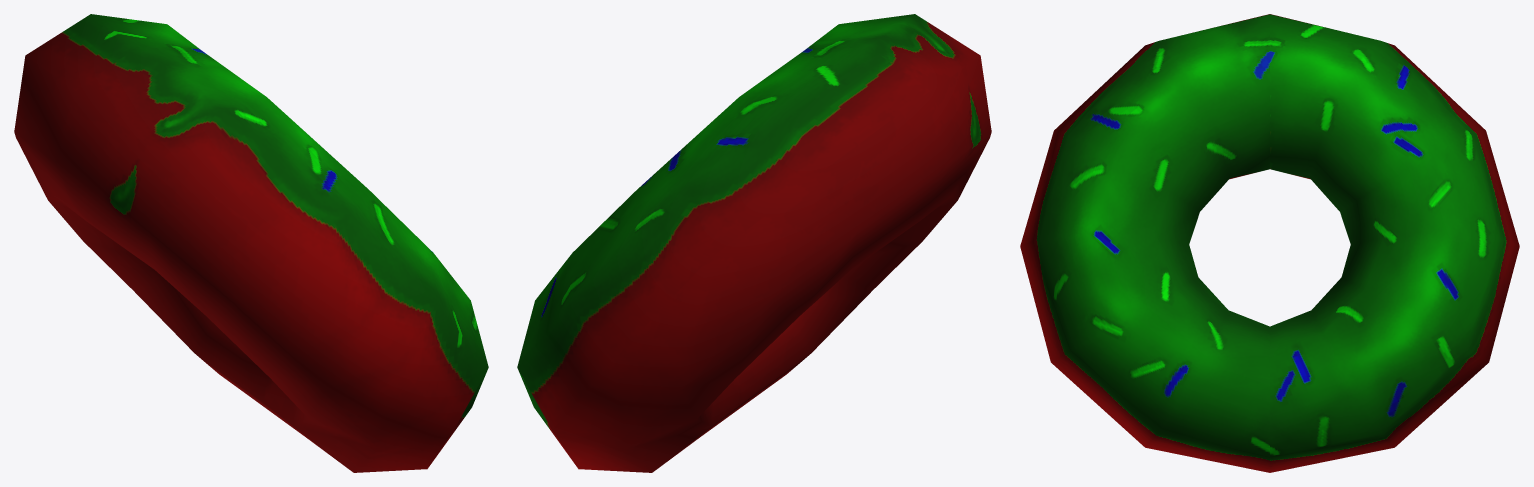
3 renders of one model, left to right at view 1: azimuth 30°, elevation 25°; view 2: azimuth 150°, elevation 25°; view 3: azimuth 270°, elevation 25°, orthographic. The views are drawn at different scales.
Parts seen in each view (by area): view 1: G1701; view 2: G1701; view 3: G1701.
Boxes of the visible parts, left/top/right/bottom form: G1701: left=14, top=14, right=488, bottom=472; G1701: left=517, top=14, right=991, bottom=472; G1701: left=1020, top=14, right=1519, bottom=472.
Bounding box in the file's own units: 0.1125 × 0.1327 × 0.1648.
